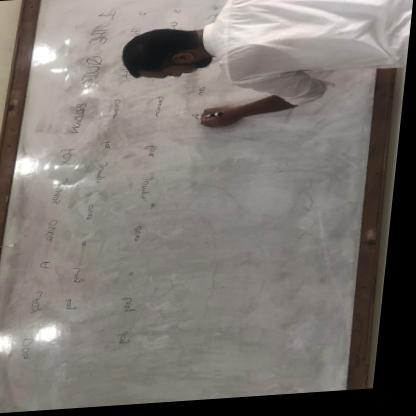Handwritten text: (9, 18, 118, 379), (58, 65, 136, 326), (103, 91, 175, 366)
Lecturer: (118, 0, 408, 108)
Whiteboard: (0, 0, 389, 414)
